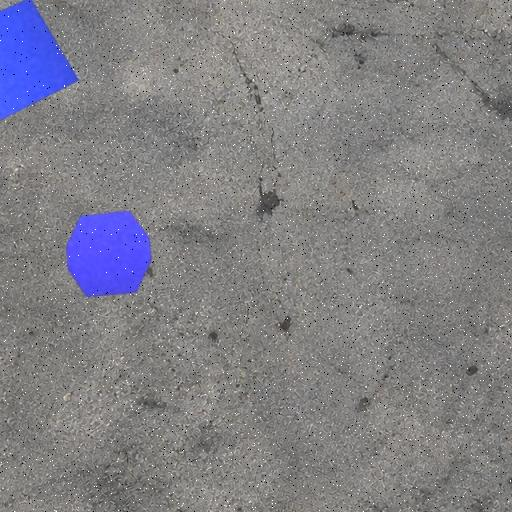BLUE_SQUARE: (0, 0, 80, 126)
